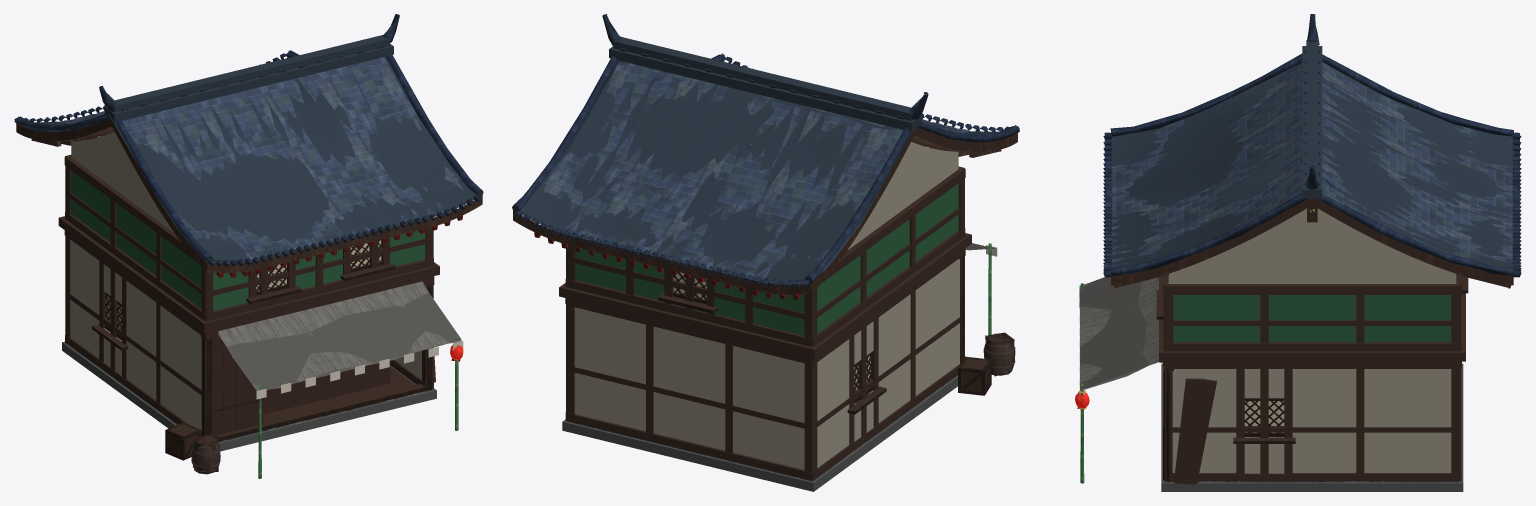
File: prop_shop.gltf
3 views of the same model, side by side, from view 1: azimuth 30°, elevation 25°; view 2: azimuth 150°, elevation 25°; view 3: azimuth 270°, elevation 25° (orthographic). The views are drawn at different scales.
Visible parts, largest first — view 1: Far, Near; view 2: Far, Near; view 3: Far, Near.
Boxes of the visible parts, x1,y1,x2,y2 form: Far: (16,15,482,473); Near: (14,14,483,478); Far: (513,14,1017,491); Near: (512,14,1019,481); Far: (1077,21,1513,491); Near: (1075,14,1521,483).
Bounding box in the file's own units: 7.65 × 7.88 × 9.87.
33 materials, 21 textured.
